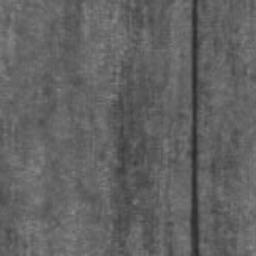Scratches: (187, 0, 201, 256)
